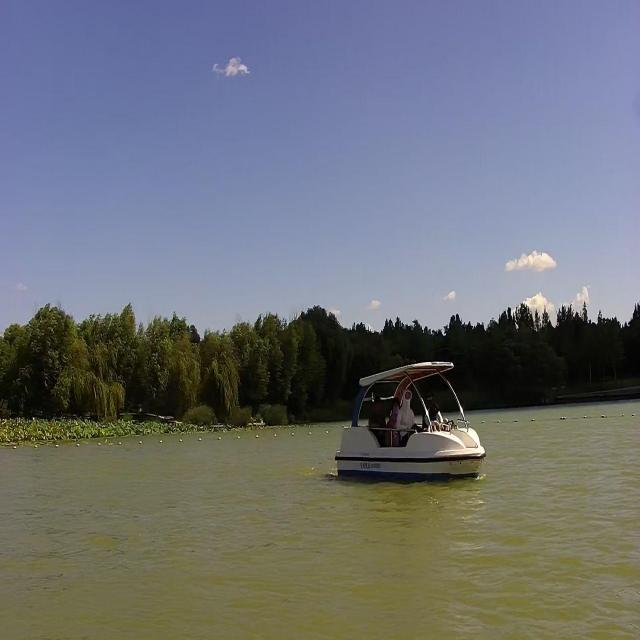CIV_Ship: (334, 354, 489, 487)
